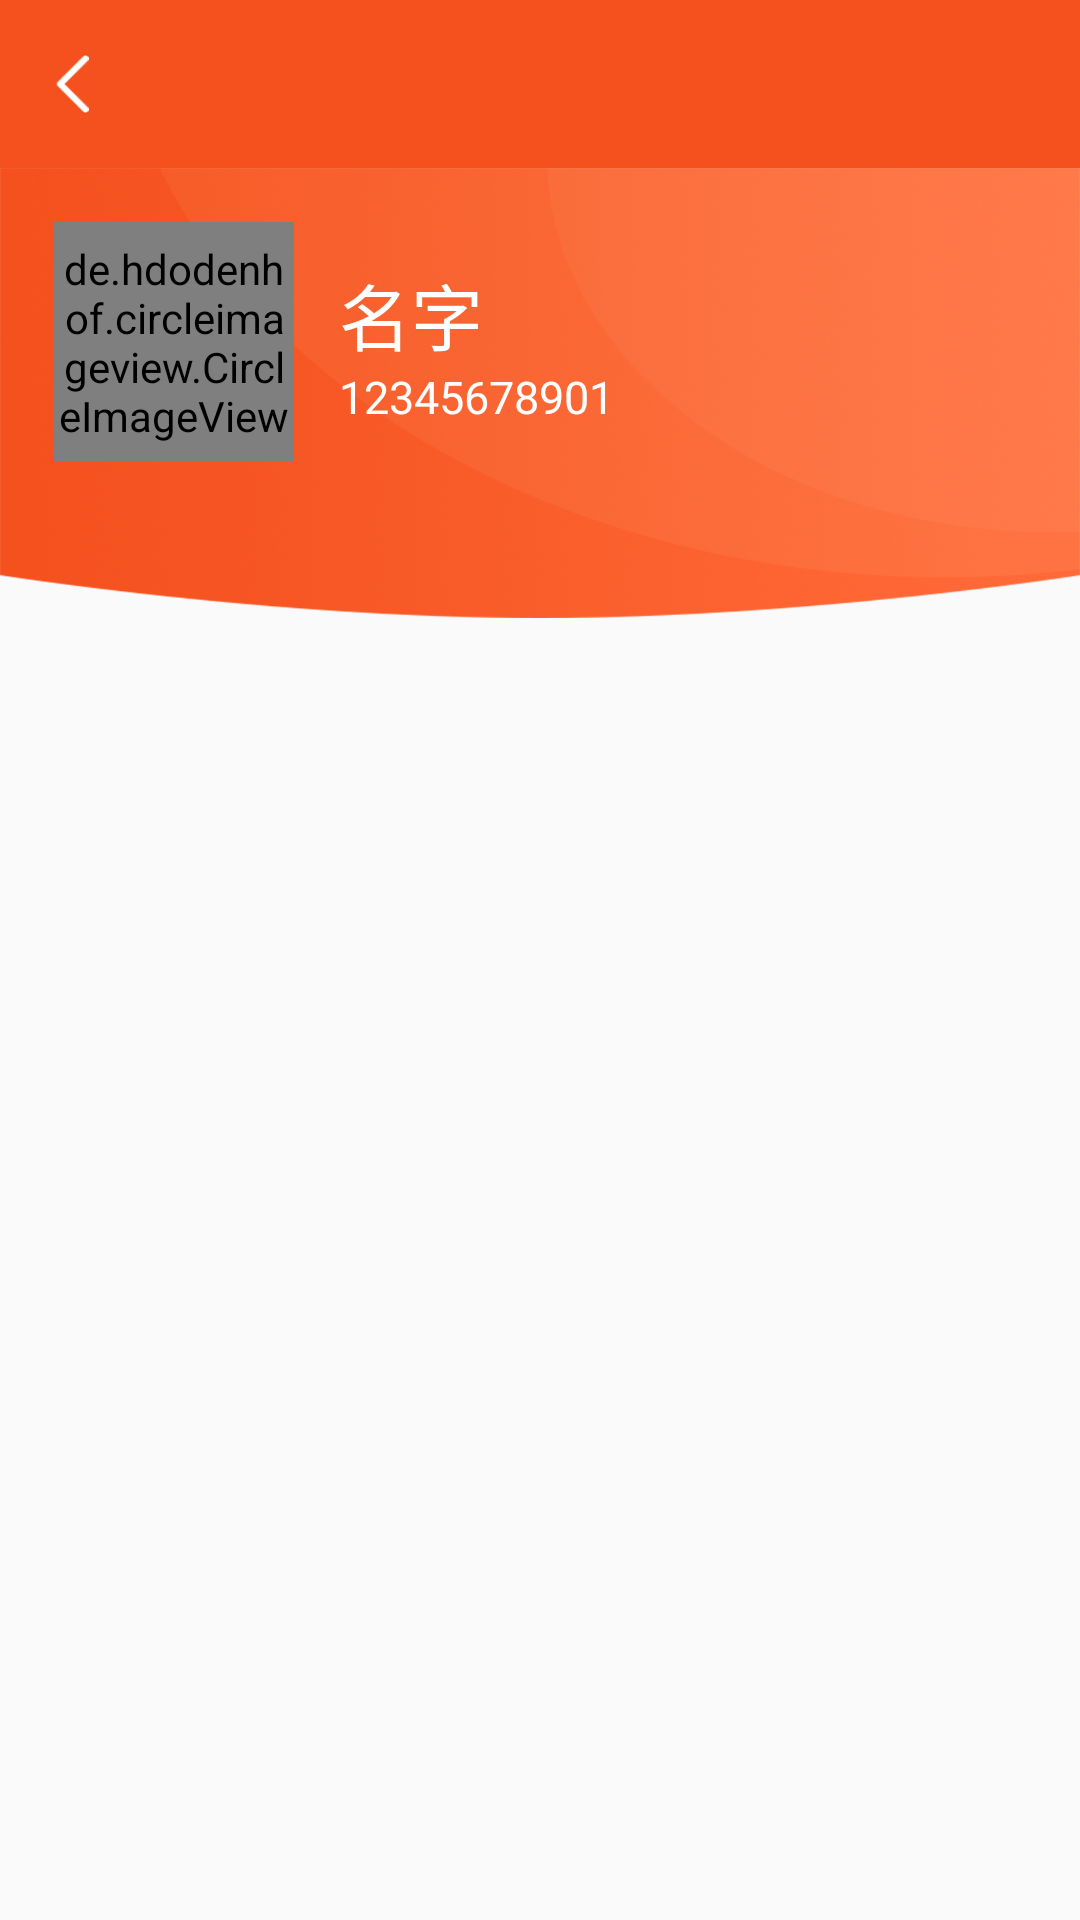

Where to tap for icons on this 1080*1920 app screen, as point (x, y):
fanhui: point (72, 84)
